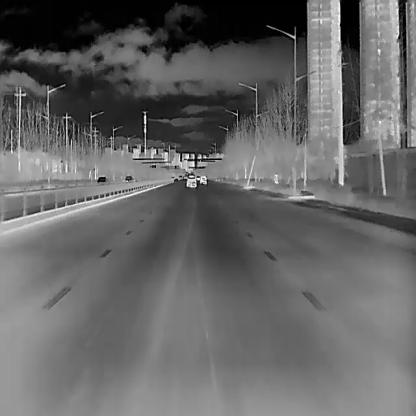car: (186, 173, 196, 187), (96, 175, 107, 183), (199, 174, 206, 184), (124, 175, 132, 181)
